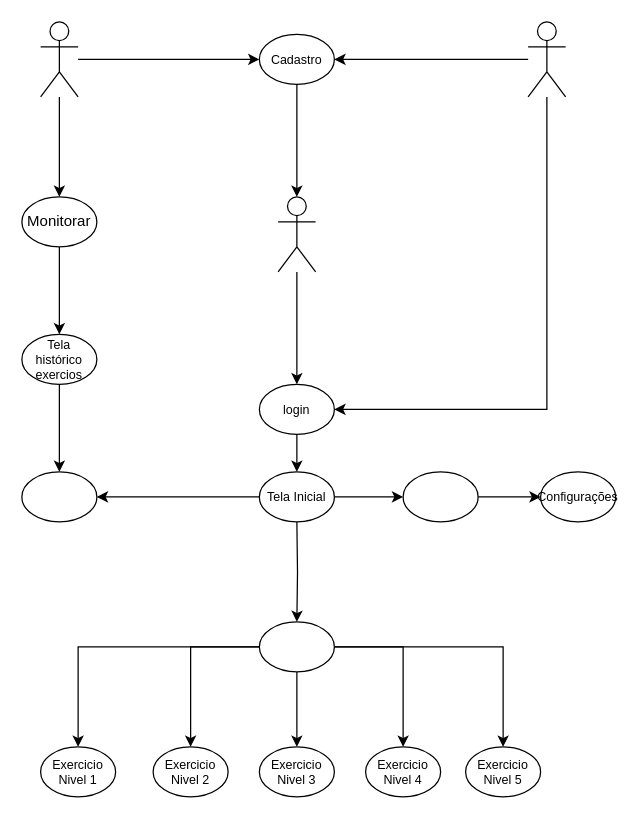
This 640x819 diagram has some shape labels left out. The shapes that lost their labels are listed below. From the top down, each one's centre as x and y in pixels, then its label:
At point 58,59: "Professor".
At point 546,59: "Responsavel".
At point 296,234: "Criança".
At point 59,496: "Tela Boletim".
At point 440,496: "Perfil".
At point 296,646: "Tela Exercicios".
